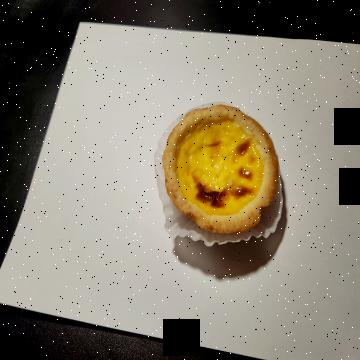EggTart: (163, 104, 280, 234)
